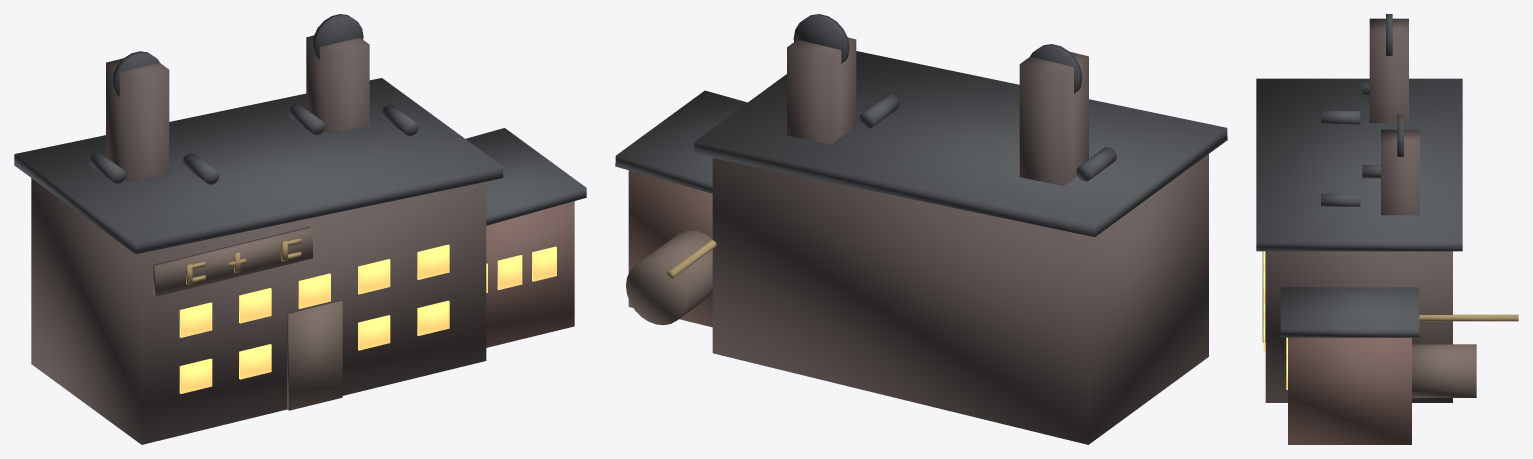
Rendered from haunted-roastery.glb.
3 renders of one model, left to right at view 1: azimuth 30°, elevation 25°; view 2: azimuth 150°, elevation 25°; view 3: azimuth 270°, elevation 25°, orthographic. The views are drawn at different scales.
Parts seen in each view (by area): view 1: factory_body, roof, factory_annex, chimney_0, annex_roof, loading_door, chimney_1, bb_sign_plate, chimney_cap_1, window_0_0, window_1_0, window_0_1 (+13 smaller); view 2: factory_body, roof, chimney_0, chimney_1, annex_roof, factory_annex, roast_tank, chimney_cap_1, chimney_cap_0, roof_vent_0, roof_vent_2; view 3: roof, factory_annex, factory_body, annex_roof, chimney_0, roast_tank, chimney_1, process_pipe, roof_vent_1, roof_vent_3, chimney_cap_0, chimney_cap_1 (+1 smaller).
Boxes of the visible parts, box(x1,y1,x2,y2) form: factory_body: box(31, 178, 486, 444); roof: box(14, 78, 503, 254); factory_annex: box(486, 201, 574, 347); chimney_0: box(106, 58, 169, 181); annex_roof: box(466, 128, 586, 225); loading_door: box(287, 300, 342, 410); chimney_1: box(306, 35, 369, 133); bb_sign_plate: box(153, 226, 312, 296); chimney_cap_1: box(312, 14, 363, 59); window_0_0: box(179, 358, 212, 393); window_1_0: box(179, 302, 212, 337); window_0_1: box(239, 344, 271, 379); factory_body: box(712, 154, 1208, 444); roof: box(694, 51, 1227, 236); chimney_0: box(1019, 52, 1088, 185); chimney_1: box(787, 37, 856, 144); annex_roof: box(615, 90, 747, 193); factory_annex: box(628, 170, 712, 327); roast_tank: box(626, 230, 712, 325); chimney_cap_1: box(793, 14, 849, 63); chimney_cap_0: box(1030, 44, 1082, 93); roof_vent_0: box(1076, 147, 1116, 181); roof_vent_2: box(859, 94, 899, 128); roof: box(1256, 78, 1462, 251); factory_annex: box(1288, 337, 1411, 444); factory_body: box(1265, 251, 1452, 402); annex_roof: box(1280, 287, 1419, 337); chimney_0: box(1369, 18, 1408, 122); roast_tank: box(1412, 344, 1476, 397); chimney_1: box(1381, 129, 1420, 215); process_pipe: box(1419, 314, 1518, 321); roof_vent_1: box(1321, 111, 1360, 124); roof_vent_3: box(1321, 193, 1360, 206); chimney_cap_0: box(1386, 14, 1392, 55); chimney_cap_1: box(1397, 115, 1403, 156).
Bounding box in the file's own units: 12.16 × 8.01 × 7.
